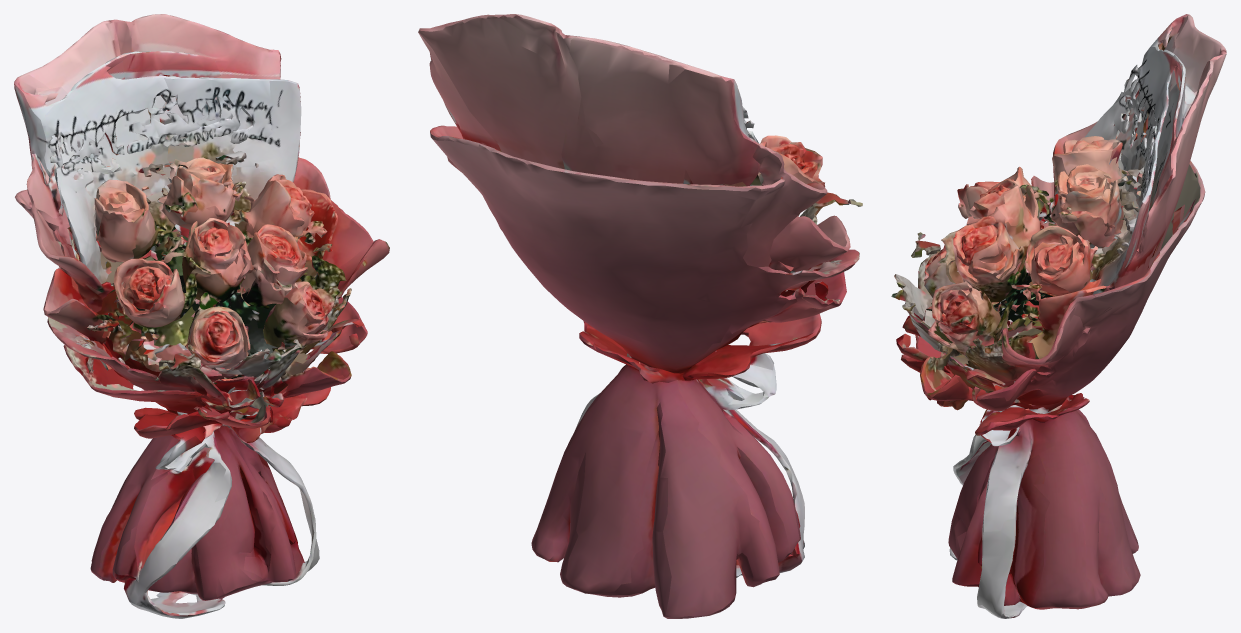
Rendered from boqu.glb.
3 views of the same model, side by side, from view 1: azimuth 30°, elevation 25°; view 2: azimuth 150°, elevation 25°; view 3: azimuth 270°, elevation 25° (orthographic). The views are drawn at different scales.
Visible parts, largest first — view 1: textured_mesh; view 2: textured_mesh; view 3: textured_mesh.
Boxes of the visible parts, x1=… form: textured_mesh: x1=14, y1=14, x2=389, y2=618; textured_mesh: x1=418, y1=14, x2=862, y2=618; textured_mesh: x1=891, y1=14, x2=1226, y2=618.
Bounding box in the file's own units: 1.36 × 1.99 × 1.15.
1 material, 1 textured.
